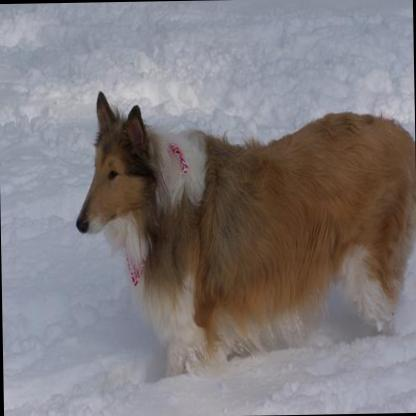collie: (70, 82, 416, 371)
